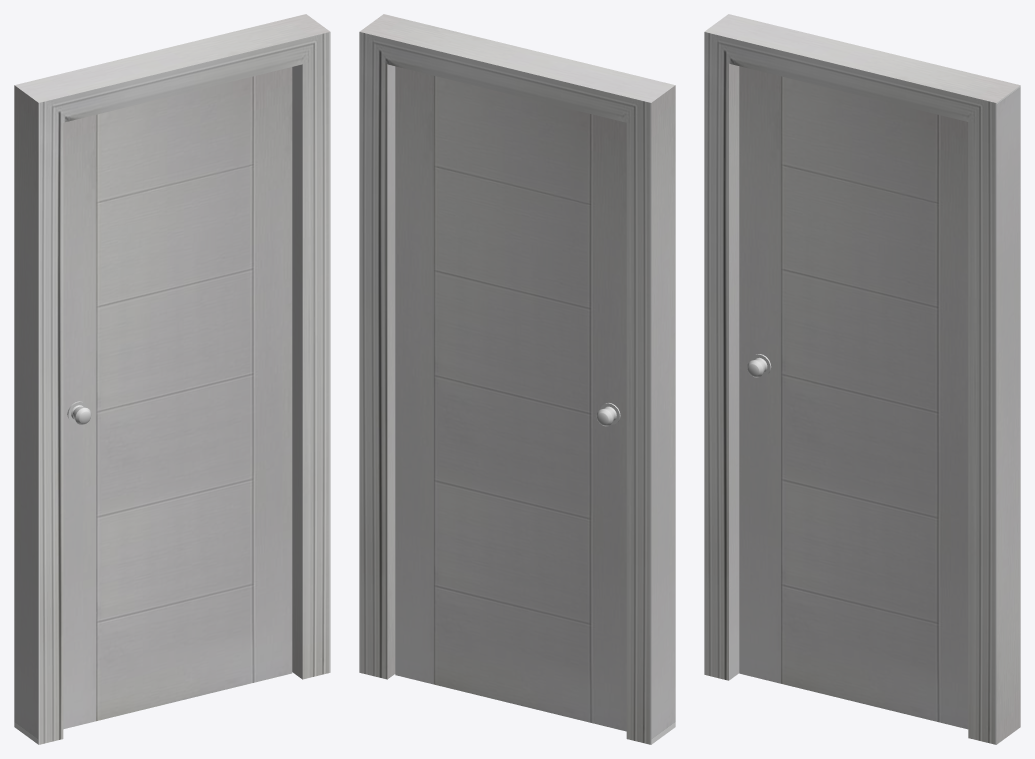
The model's file is Door.fbx.
3 renders of one model, left to right at view 1: azimuth 30°, elevation 25°; view 2: azimuth 150°, elevation 25°; view 3: azimuth 330°, elevation 25°, orthographic.
Parts seen in each view (by area): view 1: Door, Door frame; view 2: Door, Door frame; view 3: Door, Door frame.
Boxes of the visible parts, x1,y1,x2,y2 form: Door: [63, 67, 292, 729]; Door frame: [14, 14, 330, 744]; Door: [395, 66, 626, 731]; Door frame: [359, 14, 675, 744]; Door: [739, 66, 968, 729]; Door frame: [704, 14, 1020, 744].
Bounding box in the file's own units: 995 × 2092 × 150.
Materials: 2 (2 with a texture image).
